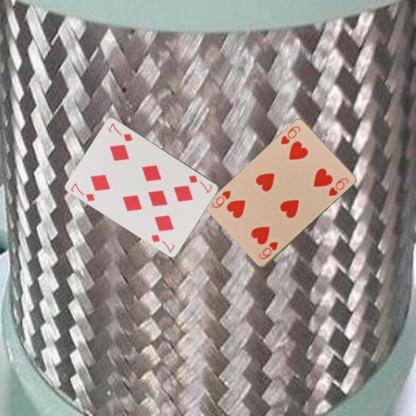6h: (278, 124, 302, 146), (256, 239, 279, 261)
7d: (68, 180, 97, 203), (186, 172, 214, 195)
